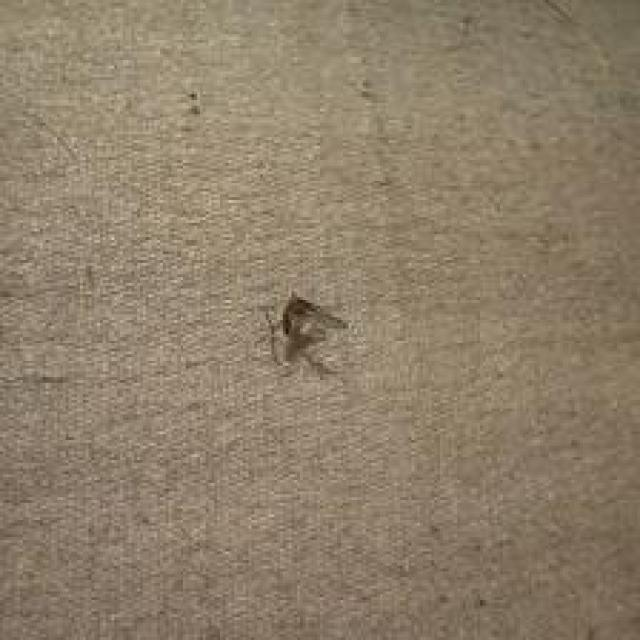Culex: (263, 289, 348, 380)
